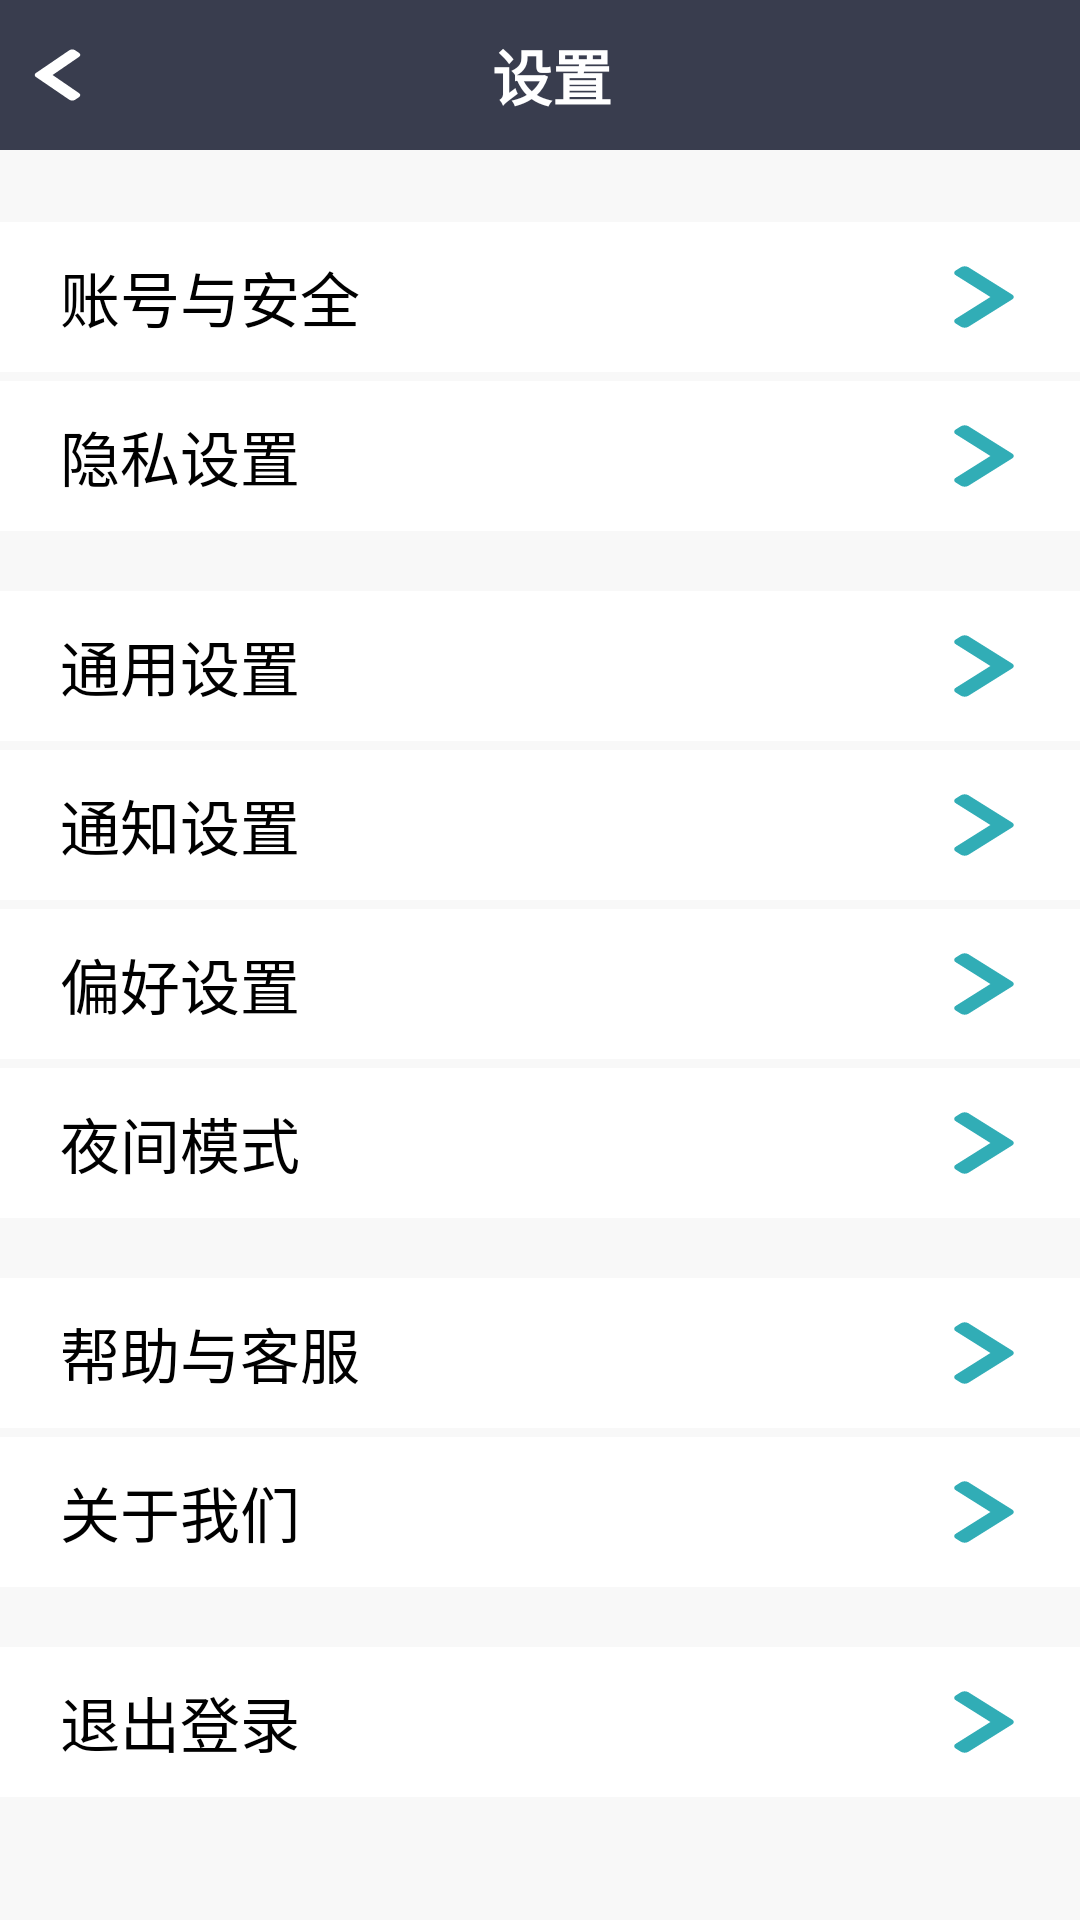

Icon click points for this 1080 x 1920 phone screenshot, format (x=x, y=y):
back: (x=58, y=75)
